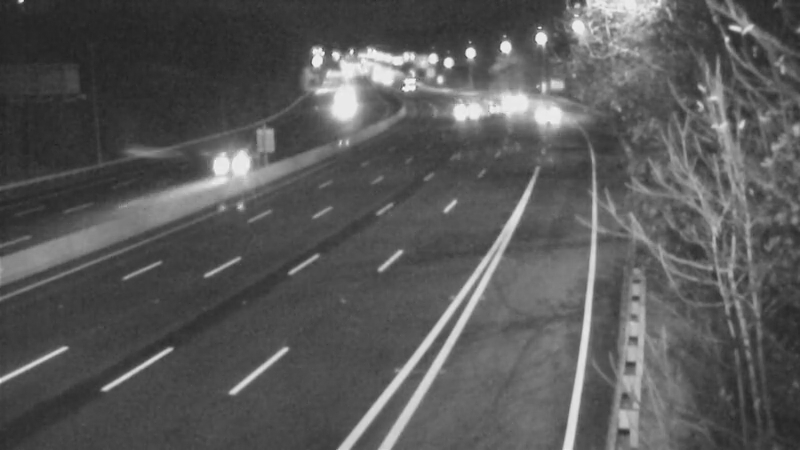vehicle: (188, 126, 268, 206), (381, 59, 431, 109), (490, 82, 540, 132), (516, 89, 566, 139), (467, 87, 517, 137), (440, 84, 490, 134), (317, 75, 367, 125)
